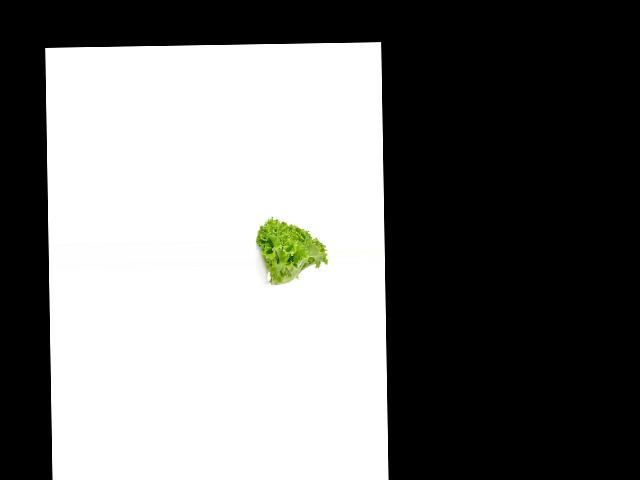lettuce: (255, 212, 330, 289)
